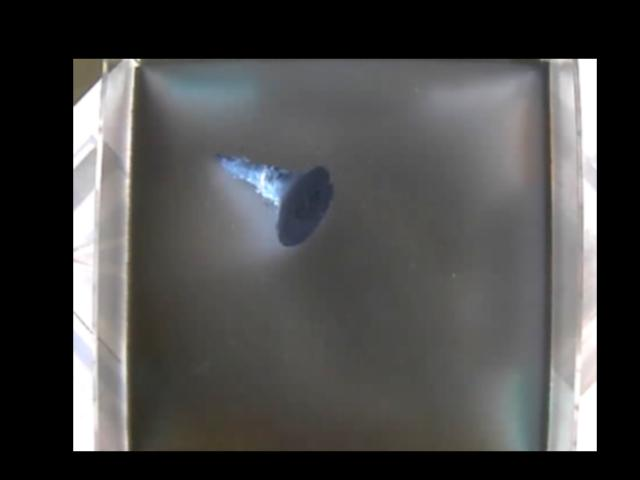Mooli: (213, 153, 333, 249)
